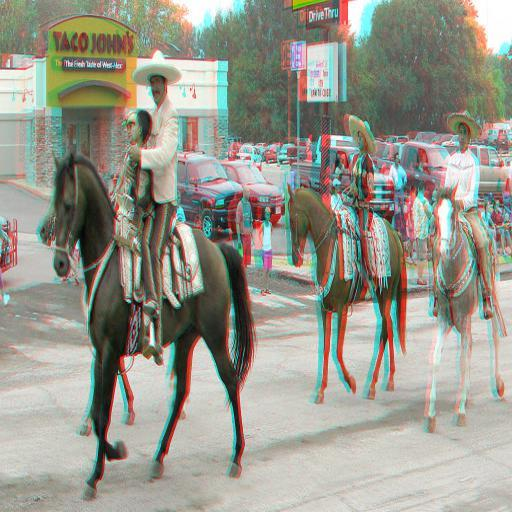Horse: (50, 148, 258, 501), (38, 189, 188, 439), (286, 182, 408, 406), (423, 184, 506, 434)
